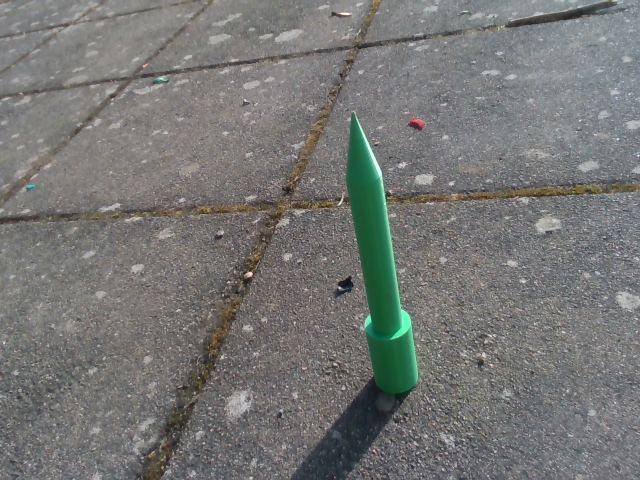Probe: (329, 100, 431, 403)
